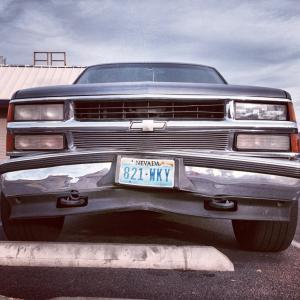Vehicle-registration-plate: (124, 162, 167, 193)
